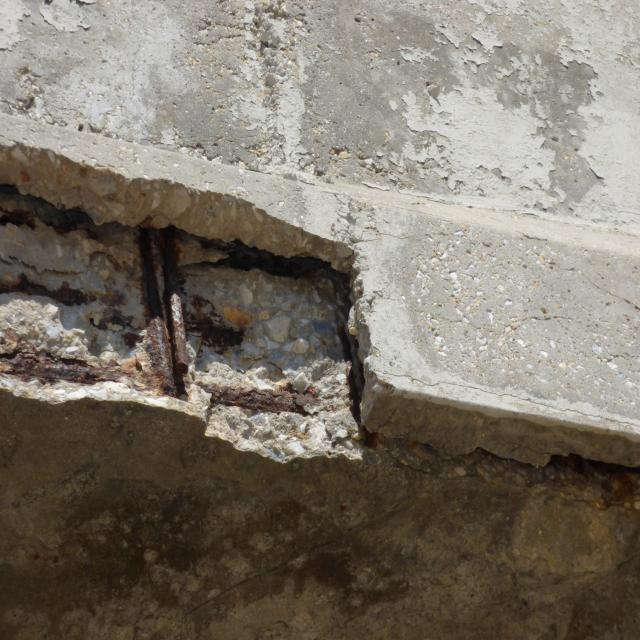corrosion: (0, 152, 349, 436)
